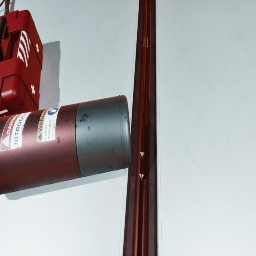FirstAidBox ,: (0, 10, 43, 117)
NitrogenTank ,: (0, 95, 131, 195)
